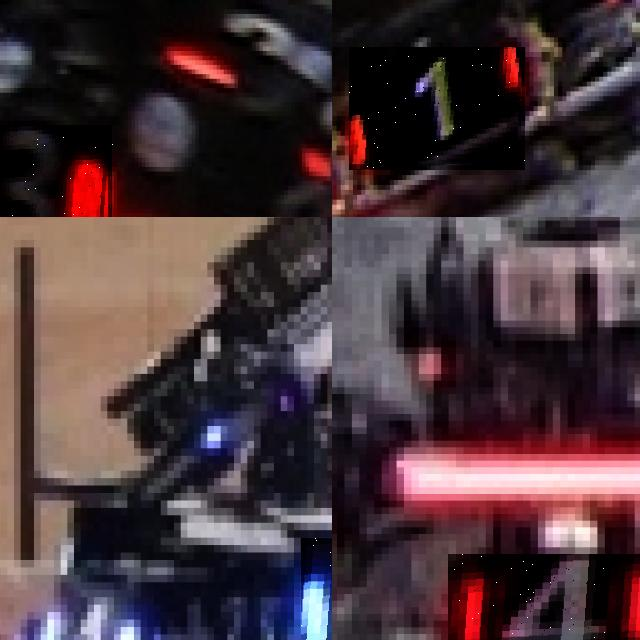B4: (27, 582, 140, 640)
R1: (349, 47, 525, 170)
R3: (0, 125, 113, 217)
R4: (448, 553, 640, 640)
